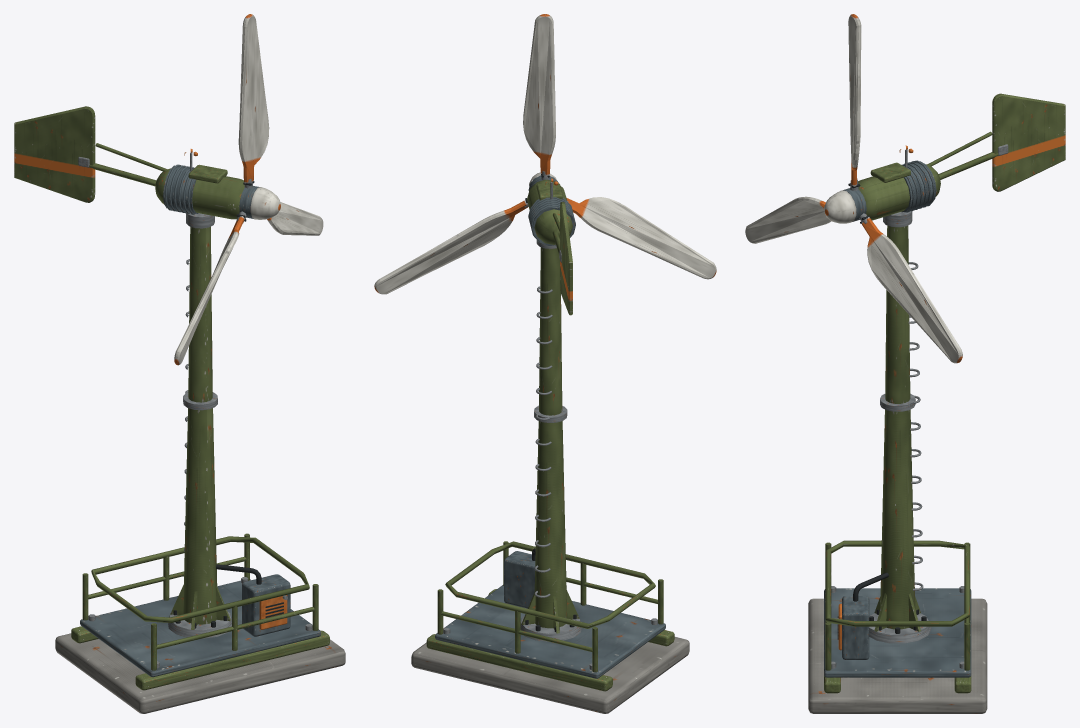
The model's file is WindTurbineLarge.glb.
3 renders of one model, left to right at view 1: azimuth 30°, elevation 25°; view 2: azimuth 150°, elevation 25°; view 3: azimuth 270°, elevation 25°, orthographic. The views are drawn at different scales.
Parts seen in each view (by area): view 1: Turbine, Rotor, Tail, Head; view 2: Turbine, Rotor, Head, Tail; view 3: Turbine, Rotor, Tail, Head.
Boxes of the visible parts, <box> form: Turbine: <box>55,226,345,713</box>; Rotor: <box>174,14,323,365</box>; Tail: <box>14,106,167,202</box>; Head: <box>155,149,244,228</box>; Turbine: <box>411,247,689,713</box>; Rotor: <box>374,14,716,294</box>; Head: <box>527,178,575,248</box>; Tail: <box>552,202,572,315</box>; Turbine: <box>808,225,987,713</box>; Rotor: <box>745,14,962,363</box>; Tail: <box>927,93,1065,191</box>; Head: <box>858,145,940,227</box>.
Bounding box in the file's own units: 2.49 × 6.05 × 2.65.
9 materials, 8 textured.
